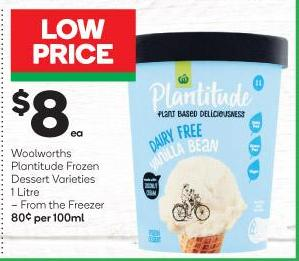description_block: (6, 147, 112, 213)
price_main: (5, 86, 91, 143)
product_image_block: (127, 34, 290, 255)
unit_price_block: (7, 209, 87, 226)
